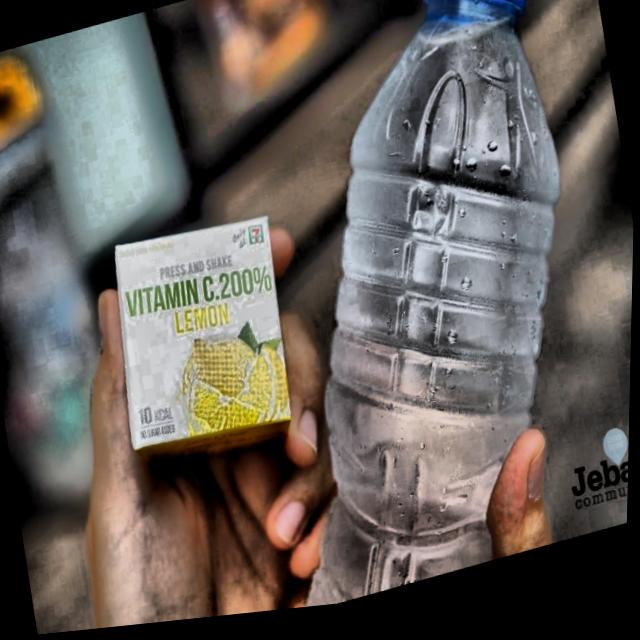Bottles: (261, 0, 577, 618)
